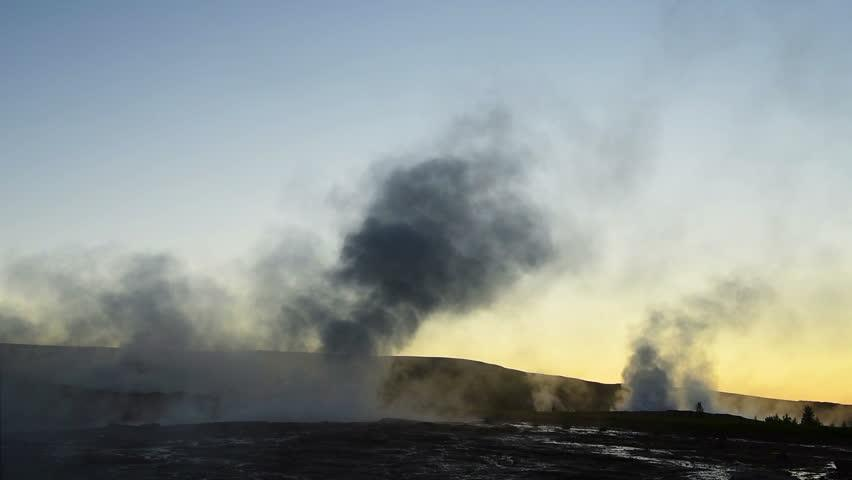smoke: (111, 272, 355, 405), (381, 168, 514, 298)
